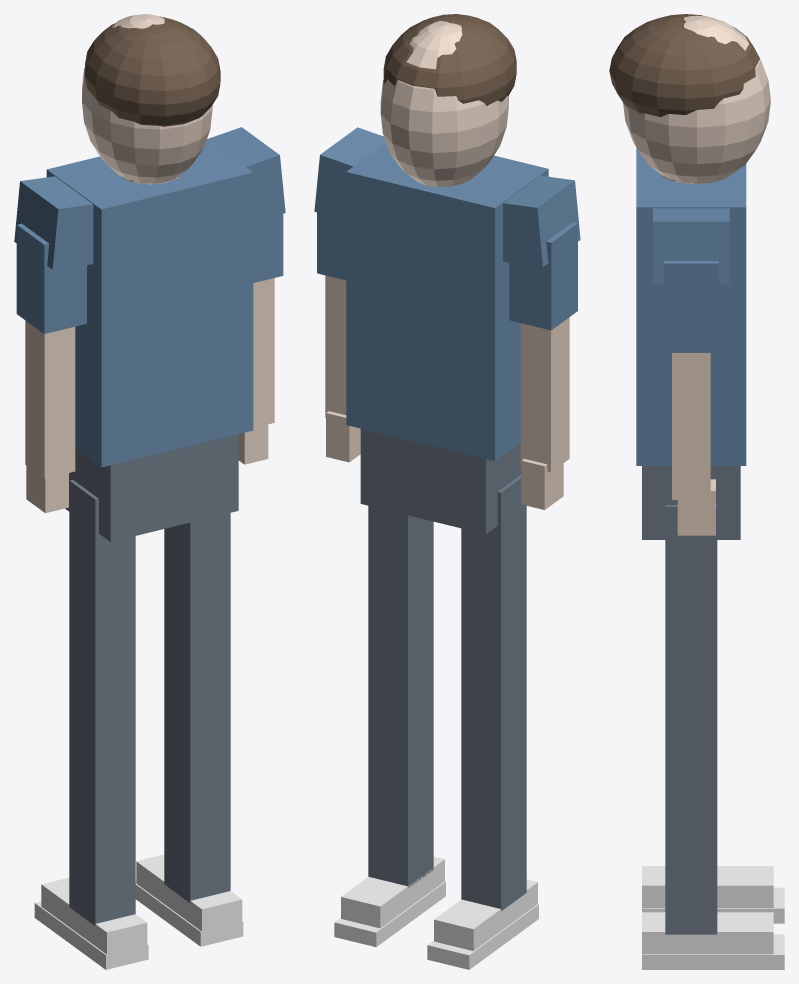
Rendered from scale_person.glb.
The picture shows the model from 3 angles, left to right: view 1: azimuth 30°, elevation 25°; view 2: azimuth 150°, elevation 25°; view 3: azimuth 270°, elevation 25°; orthographic projection. The views are drawn at different scales.
Visible parts, largest first — view 1: Person_Shirt, Person_Pants, Person_Skin, Person_Hair, Person_Shoes; view 2: Person_Shirt, Person_Pants, Person_Skin, Person_Shoes, Person_Hair; view 3: Person_Shirt, Person_Pants, Person_Skin, Person_Shoes, Person_Hair.
Boxes of the visible parts, x1=… form: Person_Shirt: x1=14, y1=127, x2=285, y2=467; Person_Pants: x1=65, y1=434, x2=238, y2=925; Person_Skin: x1=25, y1=14, x2=274, y2=513; Person_Hair: x1=85, y1=16, x2=220, y2=126; Person_Shoes: x1=34, y1=854, x2=243, y2=969; Person_Shirt: x1=314, y1=127, x2=580, y2=461; Person_Pants: x1=360, y1=428, x2=526, y2=911; Person_Skin: x1=325, y1=21, x2=569, y2=509; Person_Shoes: x1=334, y1=857, x2=538, y2=969; Person_Hair: x1=383, y1=14, x2=516, y2=105; Person_Shirt: x1=636, y1=148, x2=746, y2=465; Person_Pants: x1=642, y1=466, x2=740, y2=934; Person_Skin: x1=623, y1=15, x2=770, y2=535; Person_Shoes: x1=642, y1=866, x2=784, y2=969; Person_Hair: x1=609, y1=14, x2=759, y2=116.
Bounding box in the file's own units: 0.4925 × 1.8 × 0.3122.
